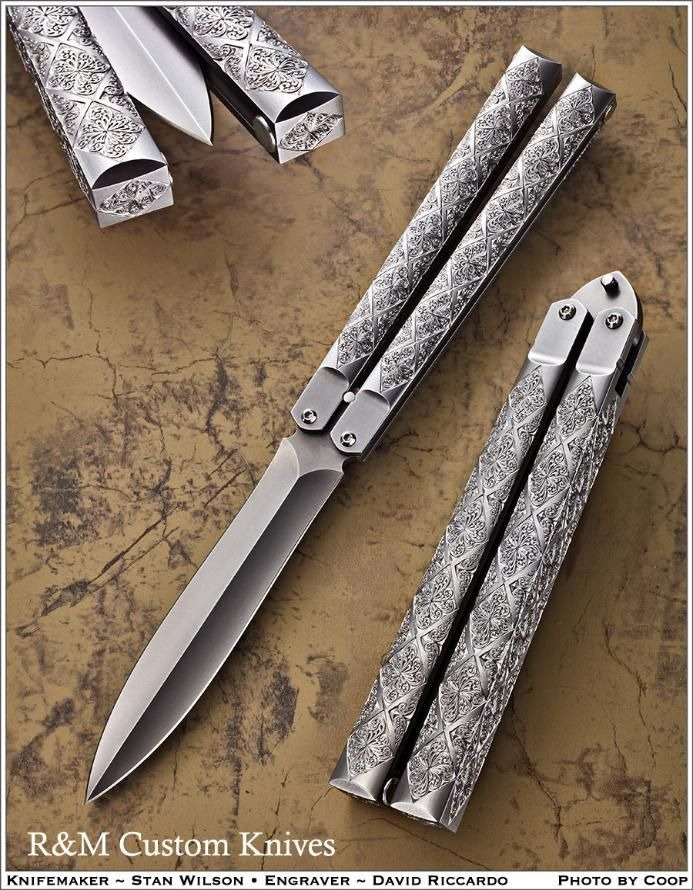knife: (75, 54, 624, 806), (349, 268, 660, 836)
